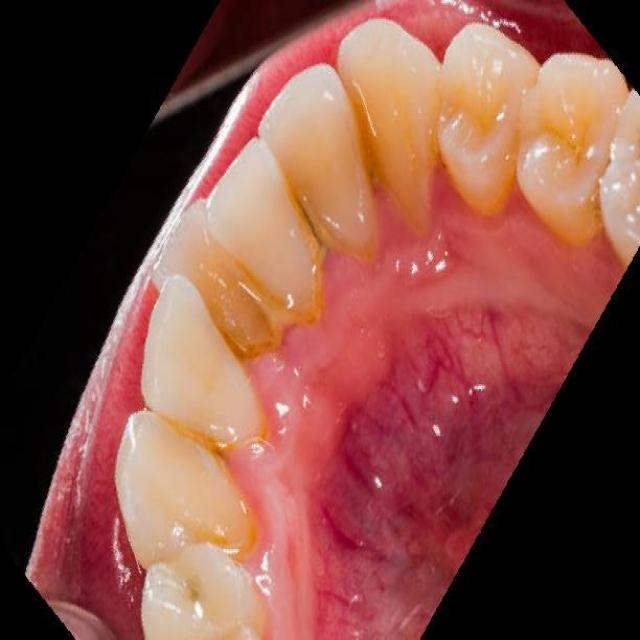calculus: (170, 245, 291, 376), (336, 105, 415, 224)
